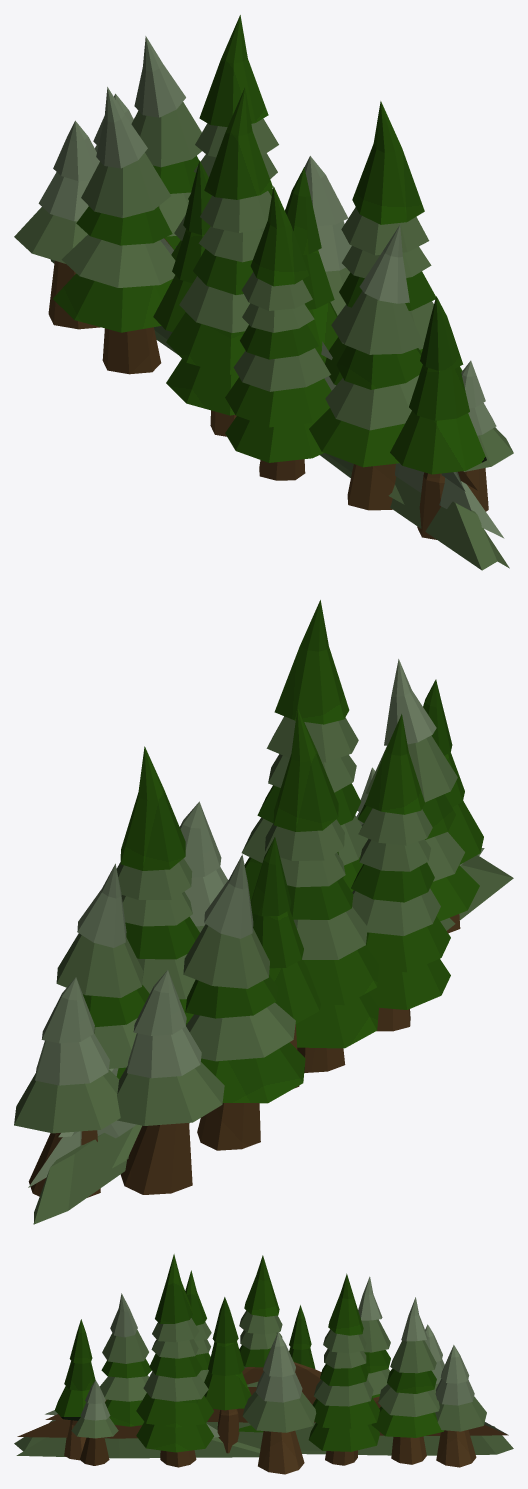
The model's file is tree_wall.fbx.
3 views of the same model, one above another, from view 1: azimuth 30°, elevation 25°; view 2: azimuth 150°, elevation 25°; view 3: azimuth 270°, elevation 25° (orthographic). The views are drawn at different scales.
Parts seen in each view (by area): view 1: Plane.010, Plane.008, Plane.009, Plane.007, Plane.003, Plane.012, Plane.002, Plane.016, Plane.015, Plane.001, Plane.005, Plane.006 (+3 smaller); view 2: Plane.009, Plane.010, Plane.008, Plane.016, Plane.001, Plane.003, Plane.011, Plane.002, Plane.007, Plane.004, Plane.013, Plane.006 (+2 smaller); view 3: Plane.003, Plane.001, Plane.002, Plane.006, Plane.007, Plane.011, Plane.005, Plane.015, Plane.009, Plane.012, Plane.010, Plane (+5 smaller).
Part boxes in pixels (bbox=[...]): Plane.010: bbox=[53, 87, 175, 374]; Plane.008: bbox=[225, 186, 331, 480]; Plane.009: bbox=[166, 87, 272, 436]; Plane.007: bbox=[309, 224, 423, 510]; Plane.003: bbox=[325, 101, 462, 385]; Plane.012: bbox=[390, 296, 486, 539]; Plane.002: bbox=[131, 36, 201, 249]; Plane.016: bbox=[14, 120, 100, 329]; Plane.015: bbox=[320, 453, 509, 570]; Plane.001: bbox=[171, 15, 278, 260]; Plane.005: bbox=[285, 167, 337, 363]; Plane.006: bbox=[285, 156, 351, 315]; Plane.009: bbox=[265, 708, 378, 1072]; Plane.010: bbox=[183, 854, 305, 1150]; Plane.008: bbox=[351, 714, 450, 1031]; Plane.016: bbox=[117, 970, 224, 1194]; Plane.001: bbox=[116, 746, 199, 1024]; Plane.003: bbox=[241, 600, 368, 901]; Plane.011: bbox=[14, 977, 120, 1197]; Plane.002: bbox=[56, 863, 149, 1079]; Plane.007: bbox=[357, 659, 479, 921]; Plane.004: bbox=[250, 837, 320, 1088]; Plane.013: bbox=[28, 1068, 189, 1224]; Plane.006: bbox=[179, 801, 227, 932]; Plane.003: bbox=[136, 1254, 213, 1467]; Plane.001: bbox=[308, 1273, 379, 1465]; Plane.002: bbox=[371, 1297, 444, 1464]; Plane.006: bbox=[242, 1332, 316, 1474]; Plane.007: bbox=[99, 1293, 151, 1426]; Plane.011: bbox=[435, 1345, 486, 1467]; Plane.005: bbox=[204, 1297, 251, 1453]; Plane.015: bbox=[14, 1399, 260, 1458]; Plane.009: bbox=[238, 1255, 282, 1432]; Plane.012: bbox=[54, 1319, 95, 1460]; Plane.010: bbox=[358, 1276, 390, 1397]; Plane: bbox=[71, 1380, 118, 1465].
Size of the model in its own units: 1362 by 2130 by 4639.
Materials: 4 (4 with a texture image).
